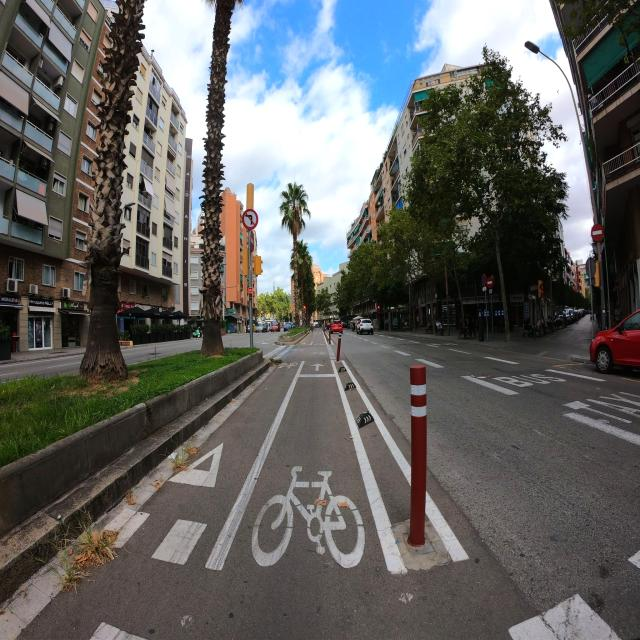car: (589, 307, 640, 381), (356, 317, 374, 335), (554, 311, 566, 328), (330, 318, 342, 335), (350, 315, 360, 331), (283, 321, 294, 332), (569, 309, 577, 323), (270, 321, 279, 332), (256, 321, 264, 332), (342, 317, 349, 328), (577, 308, 583, 319), (313, 320, 321, 328)
